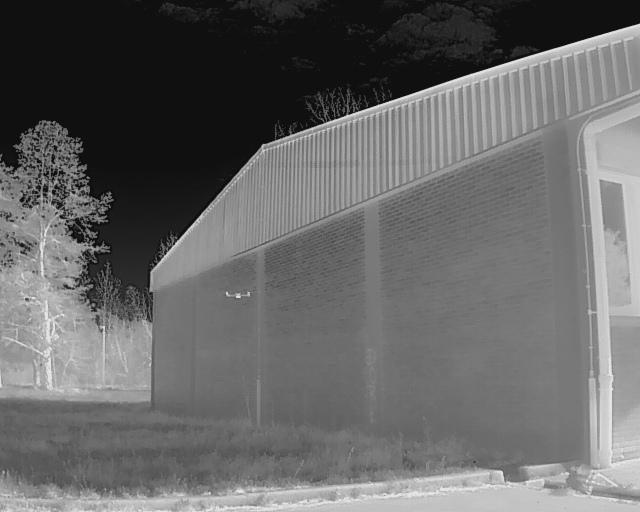drone: (219, 281, 257, 307)
